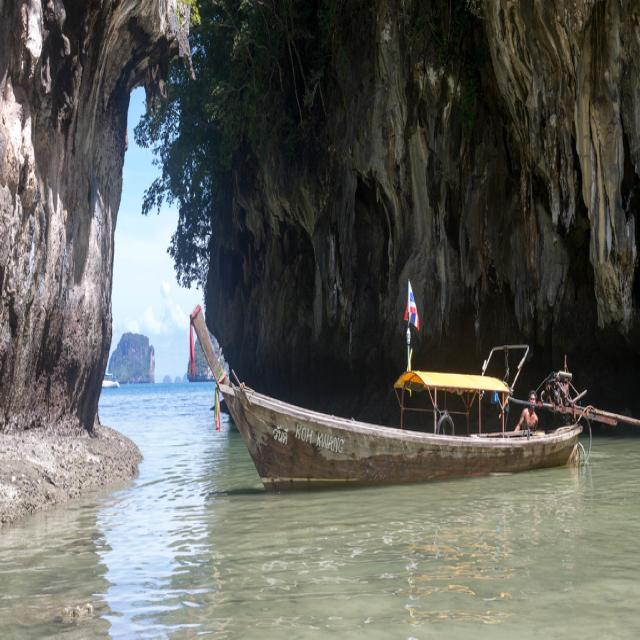Boat: (196, 305, 620, 481)
